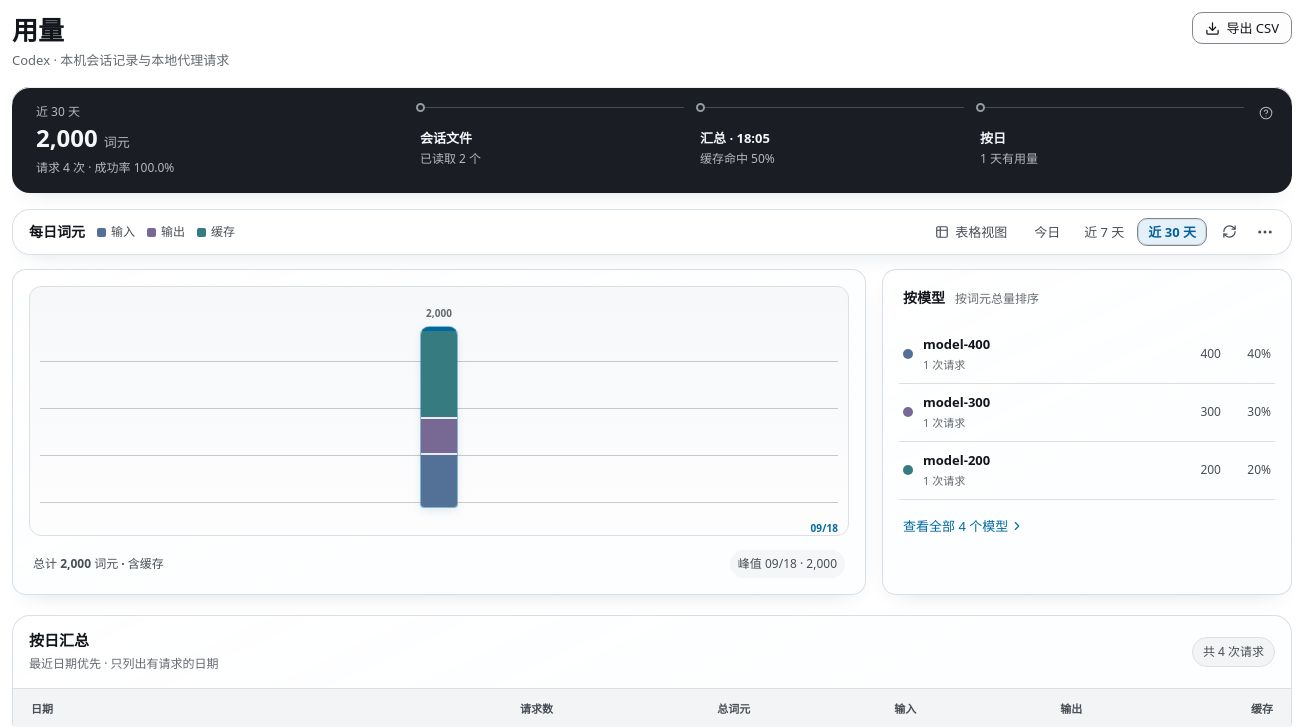
it: UsageView › labels today's buckets by hour and retains the loaded range when switching fails
The width and height of the screenshot is (1304, 727).
expect the button named "刷新用量" is enabled: met, box [1213,216,1245,248]
Click the button "今日": (1047, 232) [1023,218,1071,246]
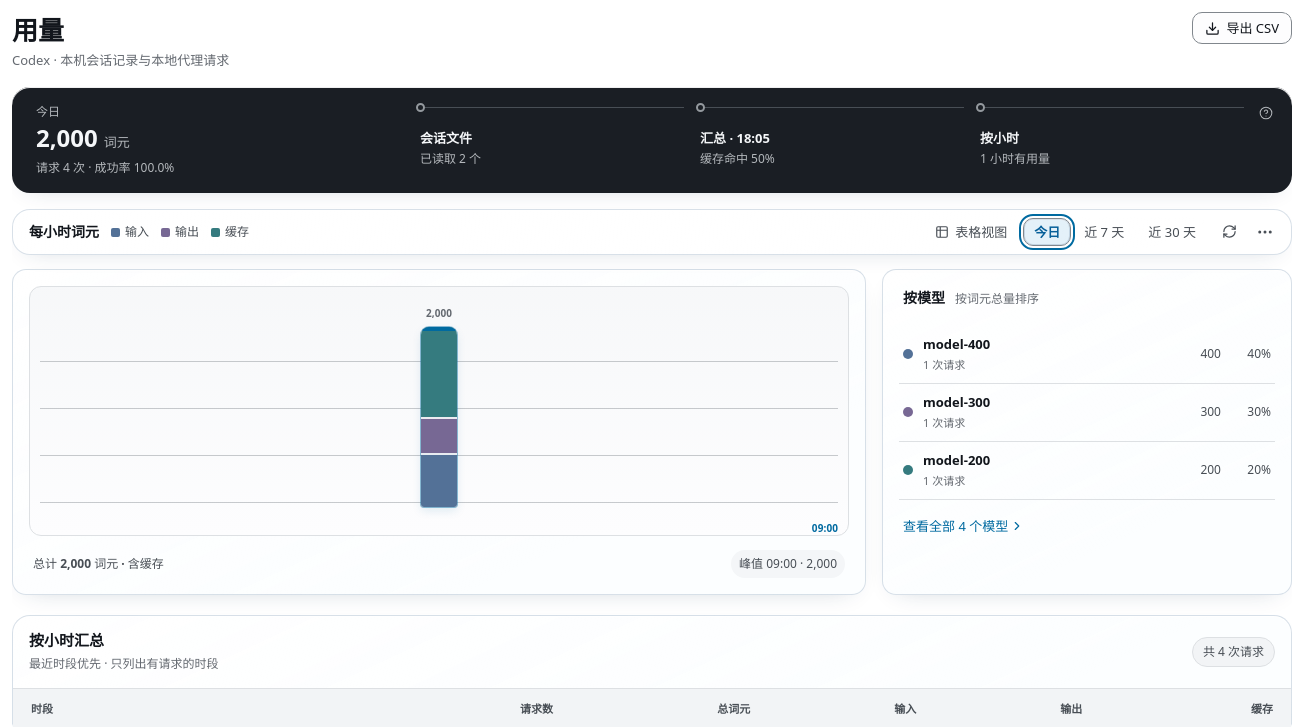
expect the text "峰值 09:00 · 2,000" is shown: met, box [731,550,845,578]
expect the text "每小时词元" is shown: met, box [29,222,99,242]
expect the text "09:00" is shown: met, box [812,521,838,535]
Click the button "近 7 天": (1104, 232) [1073,218,1135,246]
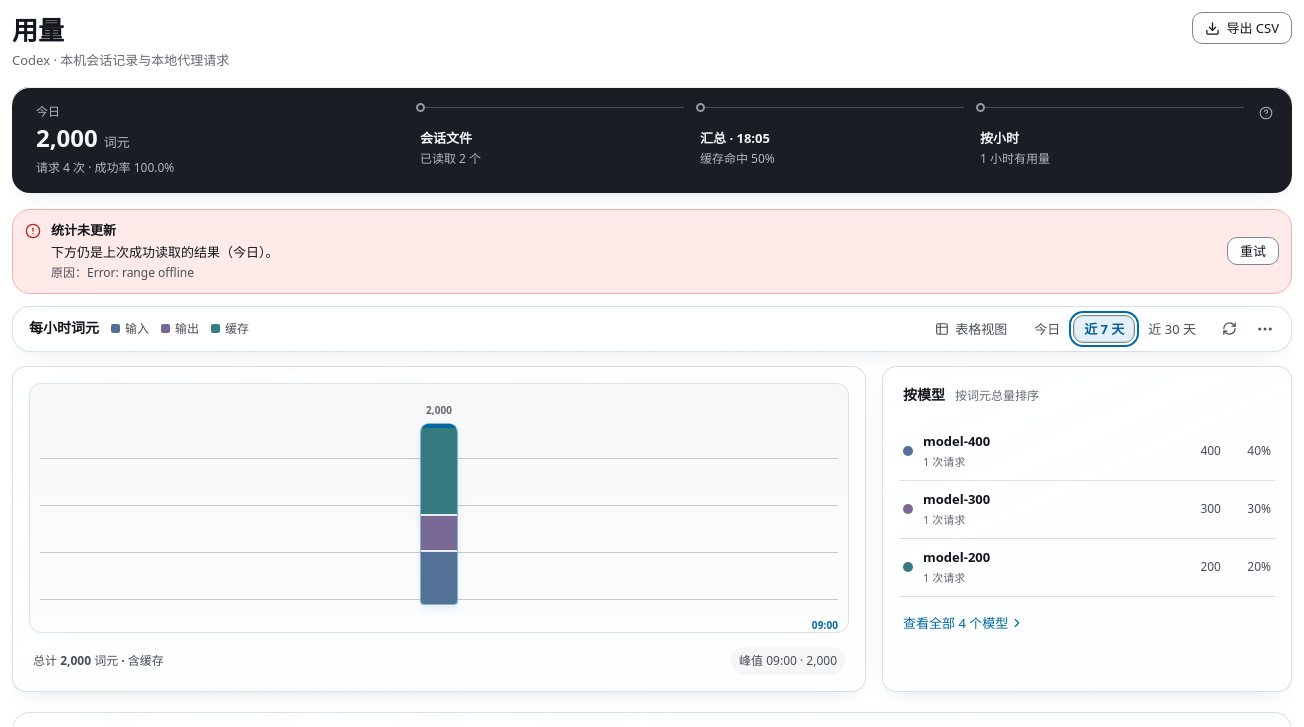
expect the element with class "usage-status-period" shows "今日": met, box [36,103,174,176]
expect the message shows "下方仍是上次成功读取的结果（今日）": met, box [51,243,278,261]
expect the message shows "range offline": met, box [87,264,194,281]
